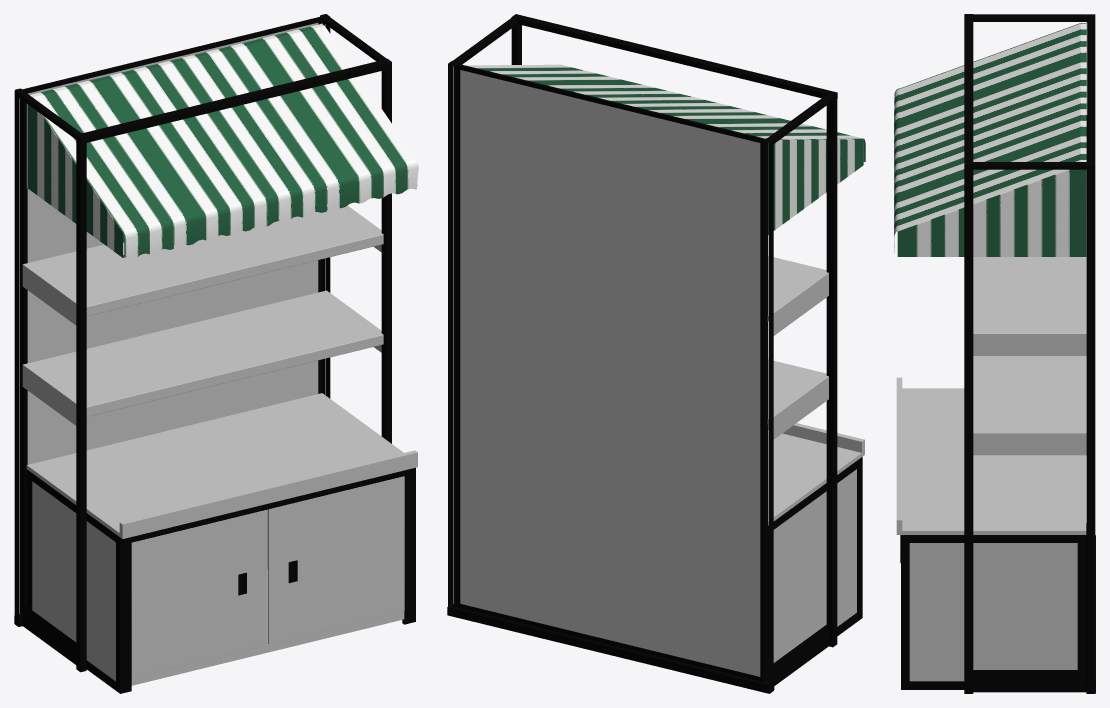
The model's file is SM_配餐室_鸡蛋架_01.fbx.
3 views of the same model, side by side, from view 1: azimuth 30°, elevation 25°; view 2: azimuth 150°, elevation 25°; view 3: azimuth 270°, elevation 25° (orthographic). The views are drawn at different scales.
Visible parts, largest first — view 1: SM_配餐室_鸡蛋架_01; view 2: SM_配餐室_鸡蛋架_01; view 3: SM_配餐室_鸡蛋架_01.
Part boxes in pixels (<box>): SM_配餐室_鸡蛋架_01: <box>14,14,418,693</box>; SM_配餐室_鸡蛋架_01: <box>447,14,865,693</box>; SM_配餐室_鸡蛋架_01: <box>894,14,1095,693</box>.
Bounding box in the file's own units: 1222 × 2001 × 691.
